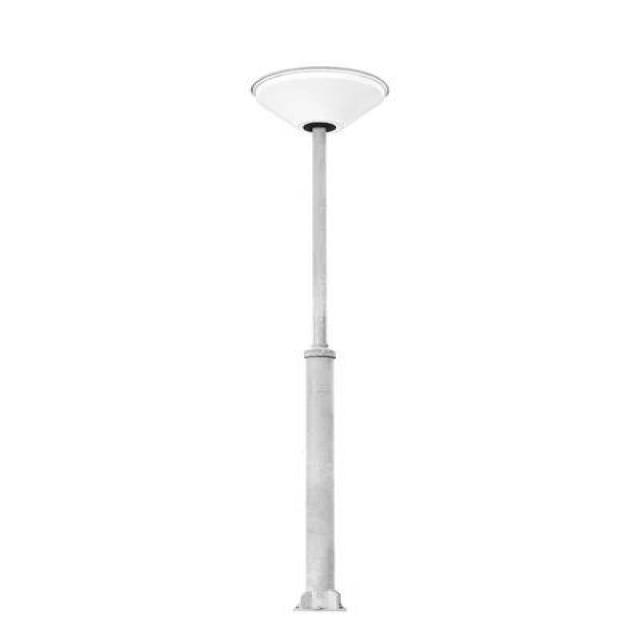Pole: (298, 127, 340, 612)
